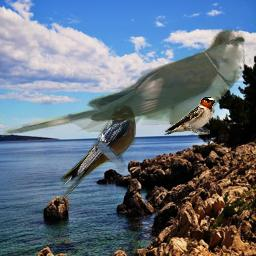Cuckoo: (0, 27, 245, 139)
Swallow: (59, 105, 136, 203), (164, 96, 216, 135)
